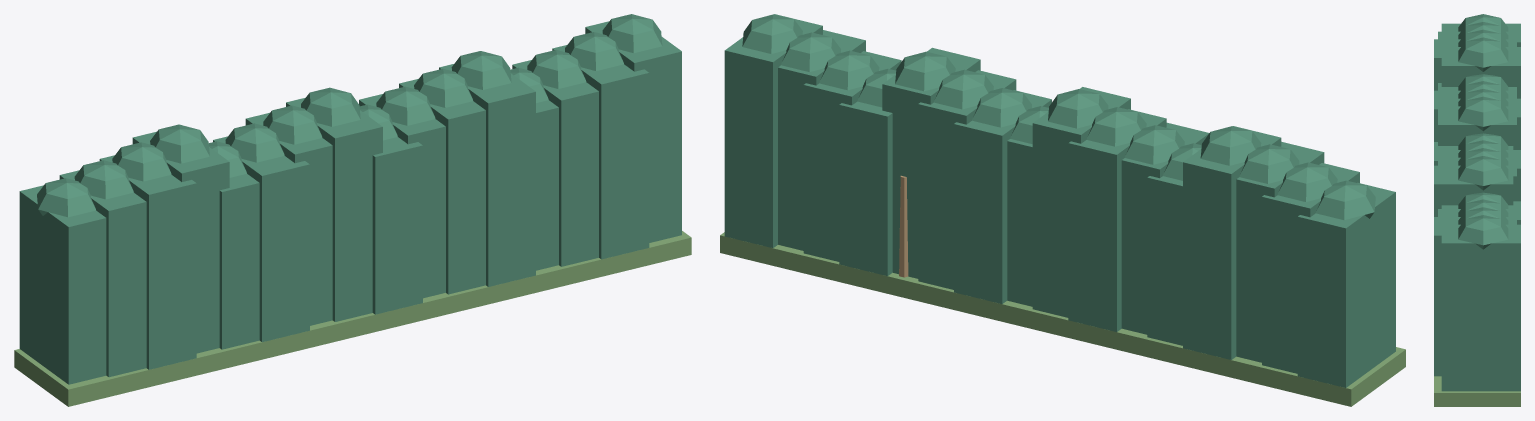
The model's file is racecourse-and-parade-ring-hedgerow-run-ebebc952__38648.glb.
3 views of the same model, side by side, from view 1: azimuth 30°, elevation 25°; view 2: azimuth 150°, elevation 25°; view 3: azimuth 270°, elevation 25° (orthographic). The views are drawn at different scales.
Parts seen in each view (by area): view 1: hedgerow-run; view 2: hedgerow-run; view 3: hedgerow-run.
Part boxes in pixels (x1,y1,x2,y2): hedgerow-run: (14,14,691,406); hedgerow-run: (720,14,1405,406); hedgerow-run: (1434,14,1520,406).
Size of the model in its own units: 6 by 2.03 by 0.9002.
